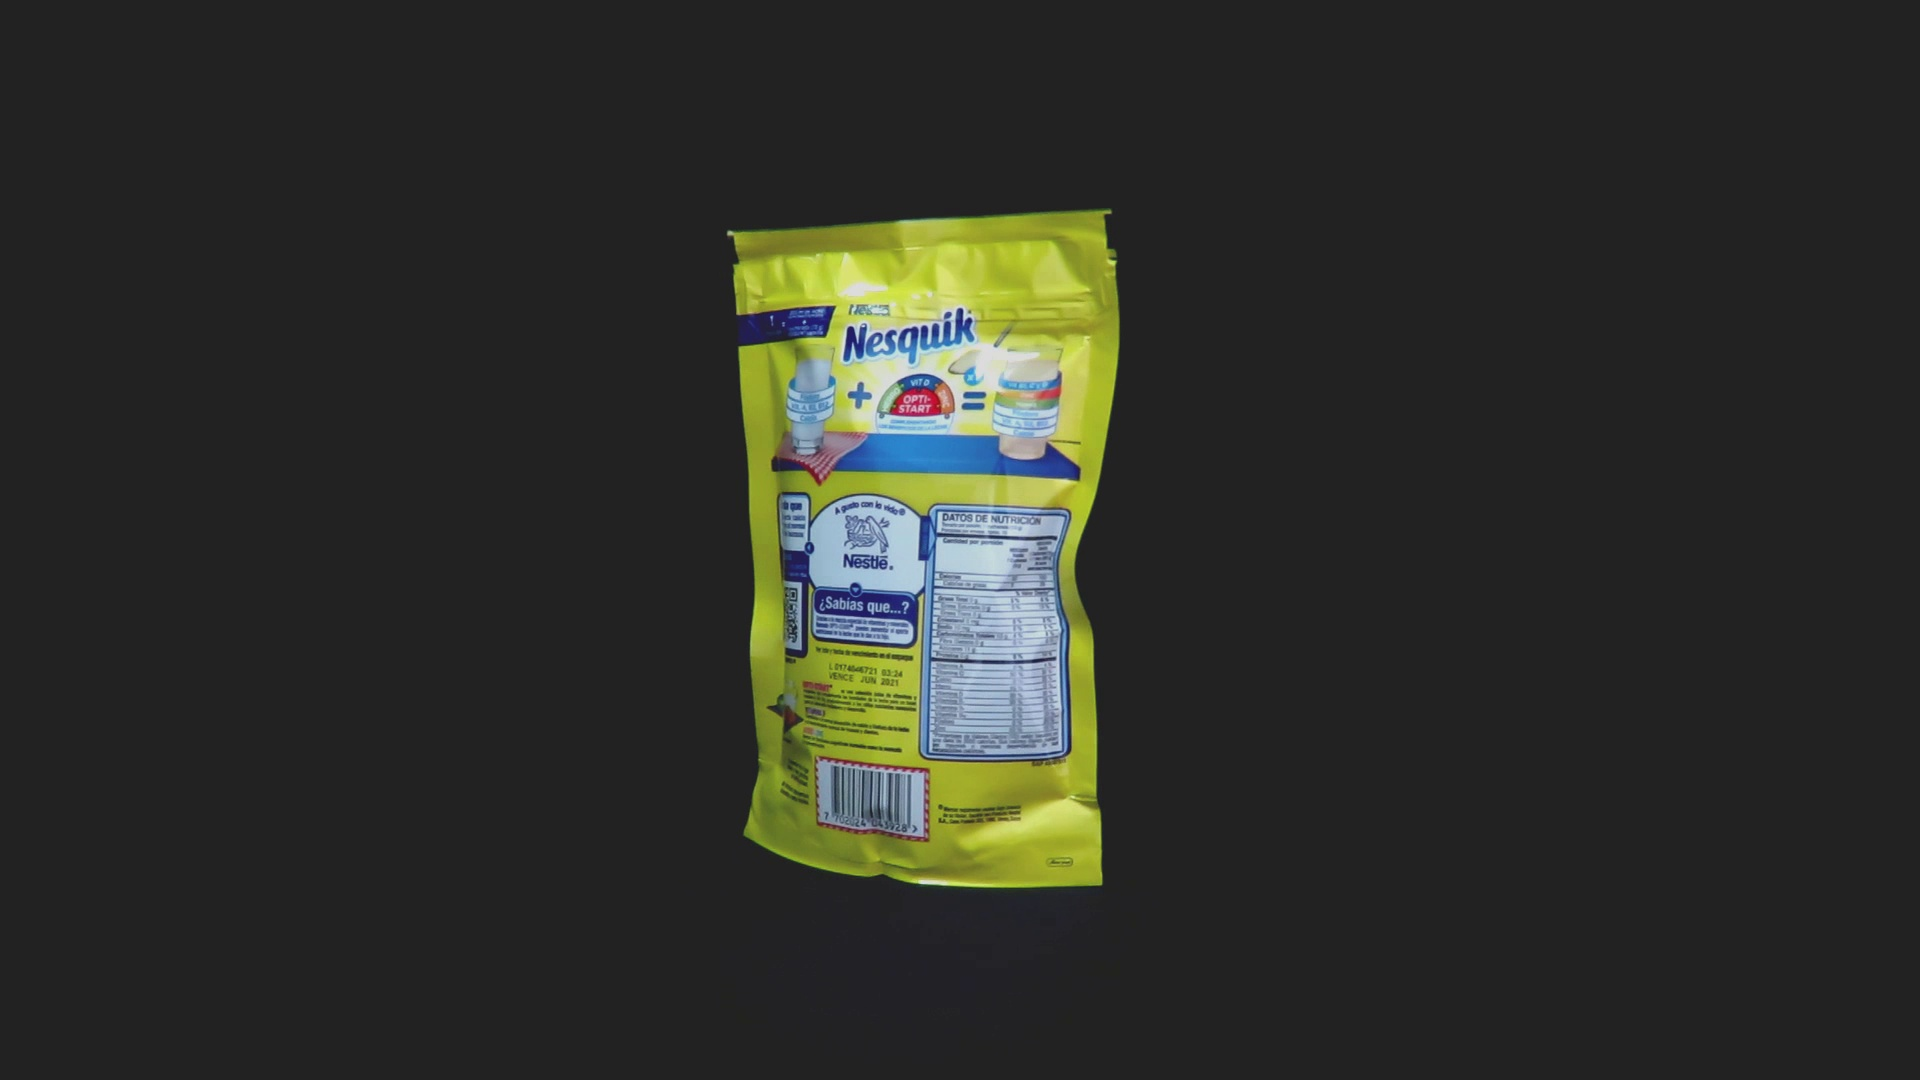COL0170306DYP20000: (723, 203, 1126, 894)
